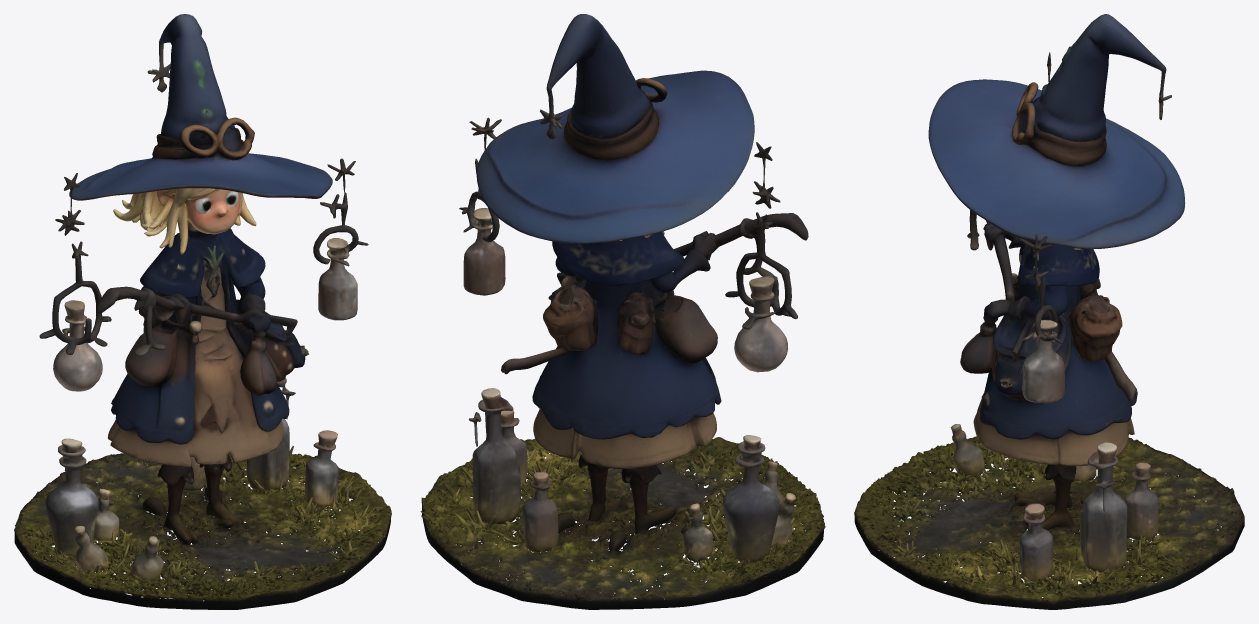
File: witch.glb
3 views of the same model, side by side, from view 1: azimuth 30°, elevation 25°; view 2: azimuth 150°, elevation 25°; view 3: azimuth 270°, elevation 25° (orthographic). The views are drawn at different scales.
Visible parts, largest first — view 1: geometry_0; view 2: geometry_0; view 3: geometry_0.
Part boxes in pixels (x1,y1,x2,y2): geometry_0: (14, 14, 391, 609); geometry_0: (420, 14, 825, 609); geometry_0: (854, 14, 1244, 609).
Bounding box in the file's own units: 0.7004 × 0.9995 × 0.6867.
Materials: 1 (1 with a texture image).
